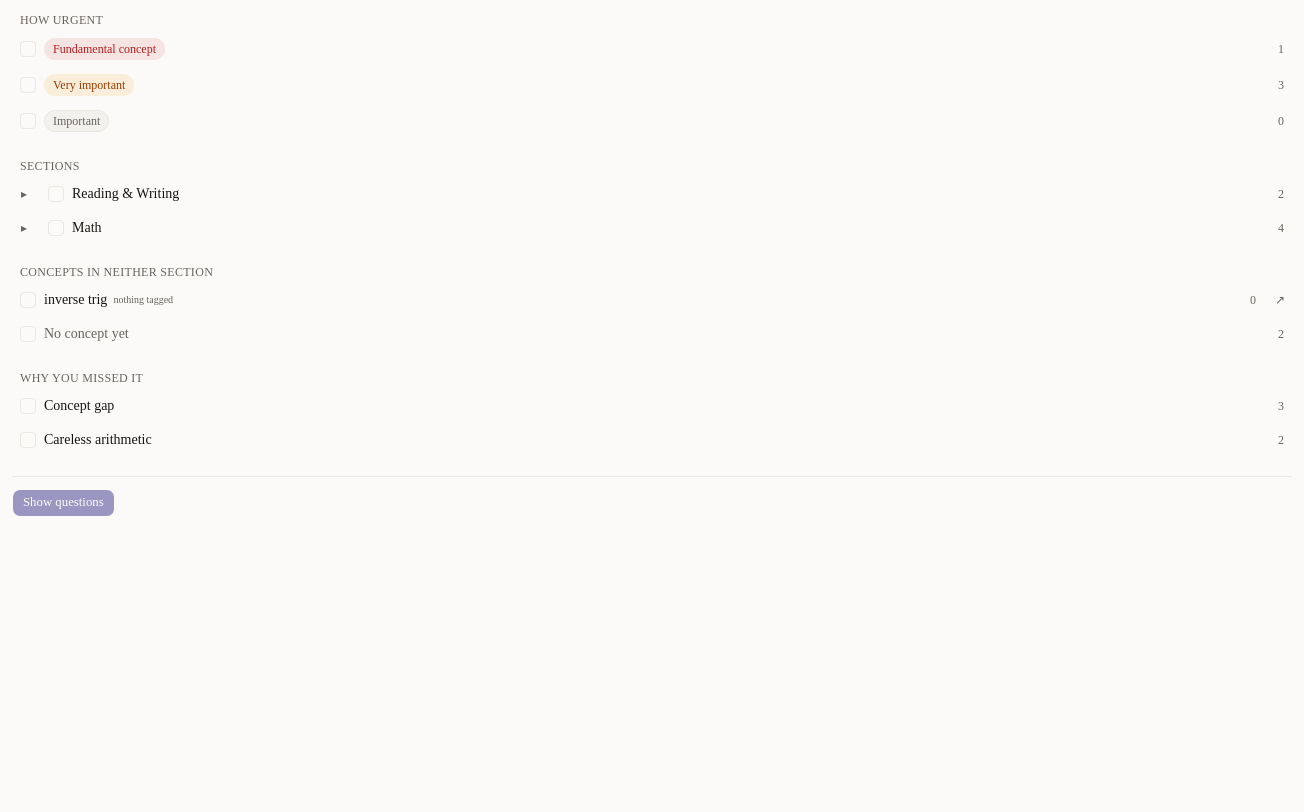
Test: Categories › collapses again
This screenshot has width=1304, height=812.
expect the heading "How urgent" is shown: met, box [20, 13, 103, 27]
Click the button named "Expand Math" at (24, 228), box [12, 216, 36, 240]
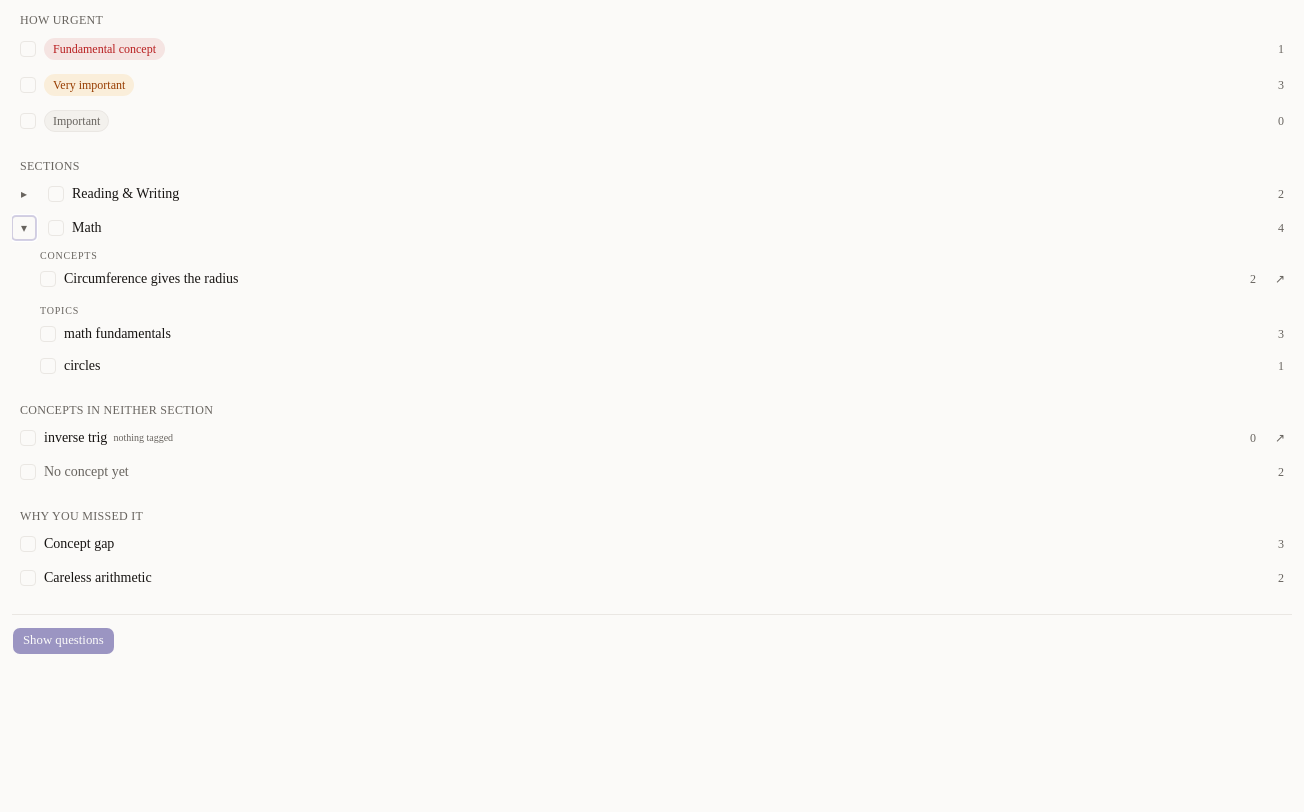
Click the button named "Collapse Math" at (24, 228), box [12, 216, 36, 240]
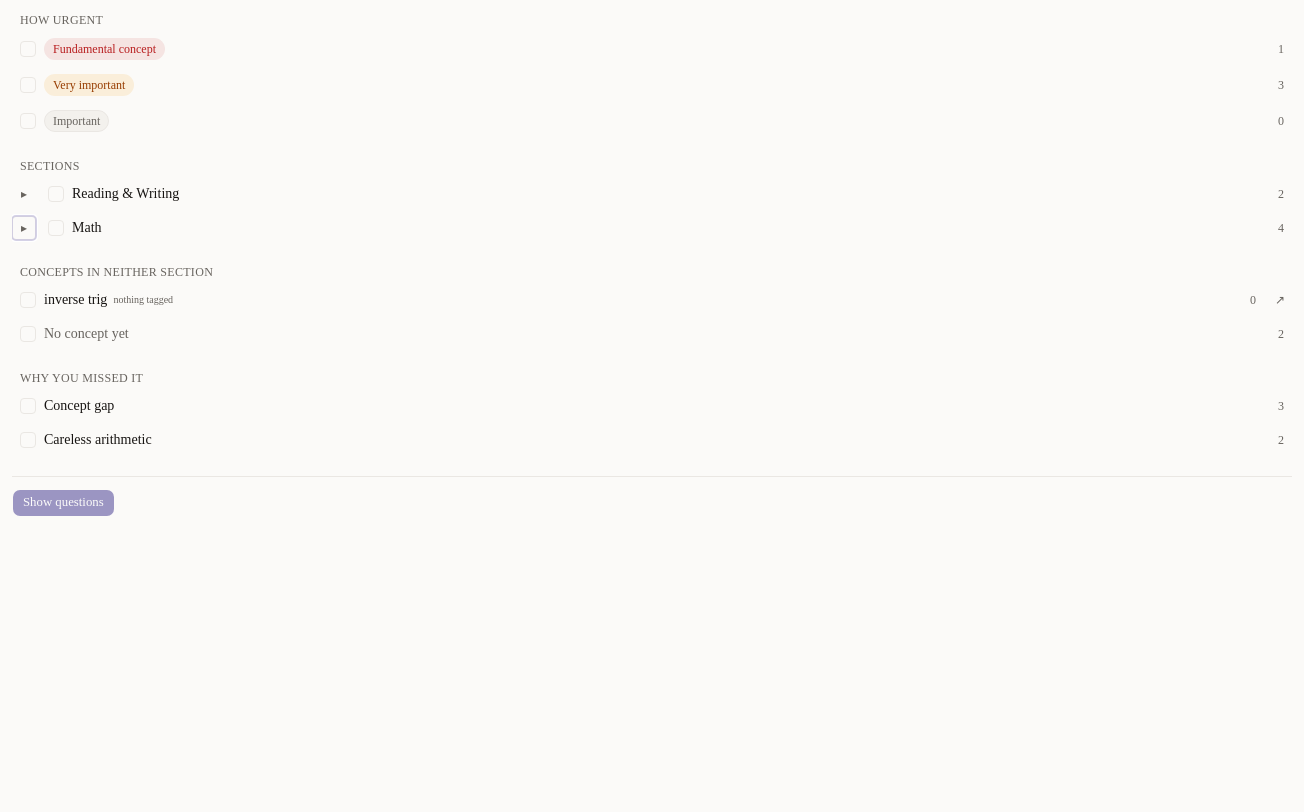
expect the checkbox "circles" is gone: met
